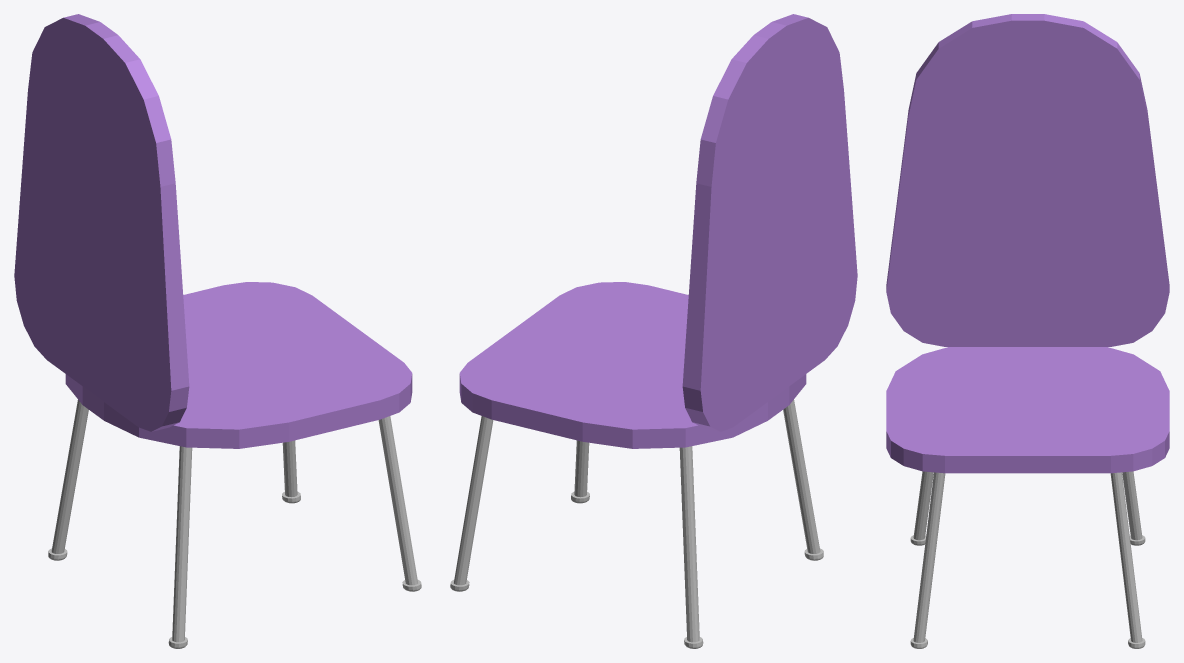
File: Chair_25.fbx
The picture shows the model from 3 angles, left to right: view 1: azimuth 30°, elevation 25°; view 2: azimuth 150°, elevation 25°; view 3: azimuth 270°, elevation 25°; orthographic projection. The views are drawn at different scales.
Visible parts, largest first — view 1: Chair_25; view 2: Chair_25; view 3: Chair_25.
Part boxes in pixels (x1,y1,x2,y2): Chair_25: [14, 14, 421, 648]; Chair_25: [450, 14, 857, 648]; Chair_25: [886, 14, 1169, 648].
Size of the model in its own units: 0.4487 by 0.9231 by 0.4567.
